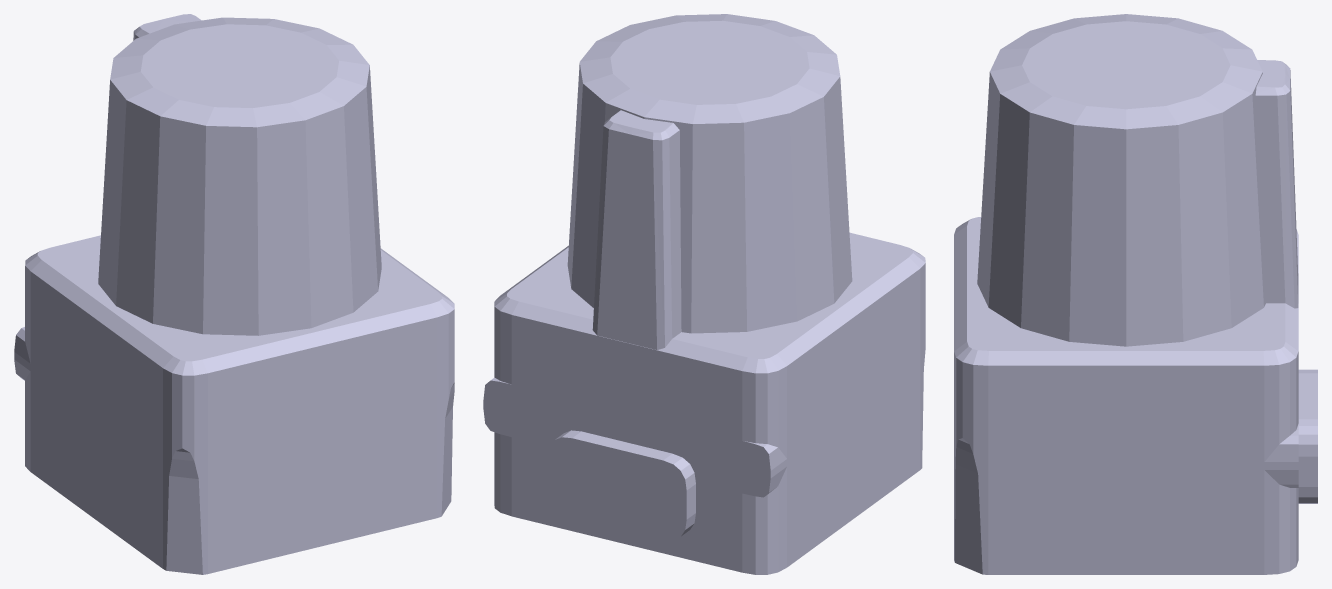
The model's file is Krtyn_Tray_Ex_lidar_2d_v1.dae.dae.
The picture shows the model from 3 angles, left to right: view 1: azimuth 30°, elevation 25°; view 2: azimuth 150°, elevation 25°; view 3: azimuth 270°, elevation 25°; orthographic projection. The views are drawn at different scales.
Visible parts, largest first — view 1: node0; view 2: node0; view 3: node0.
Part boxes in pixels (box(x1,y1,x2,y2)): node0: box(14, 14, 454, 574); node0: box(483, 14, 925, 574); node0: box(954, 14, 1317, 574).
Size of the model in its own units: 0.05 by 0.0528 by 0.07.
